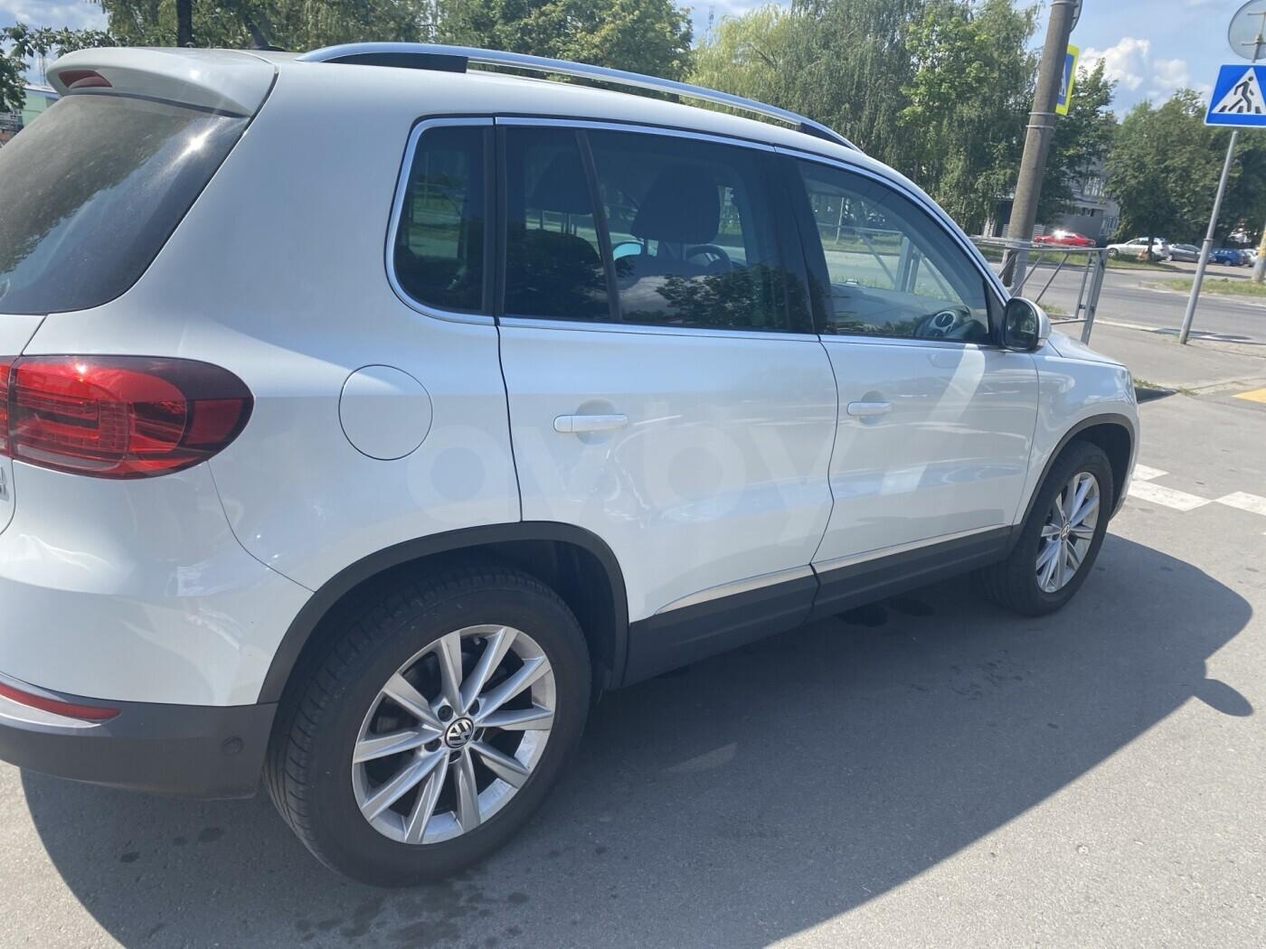Tiguan_2011-2018: (0, 41, 1143, 893)
